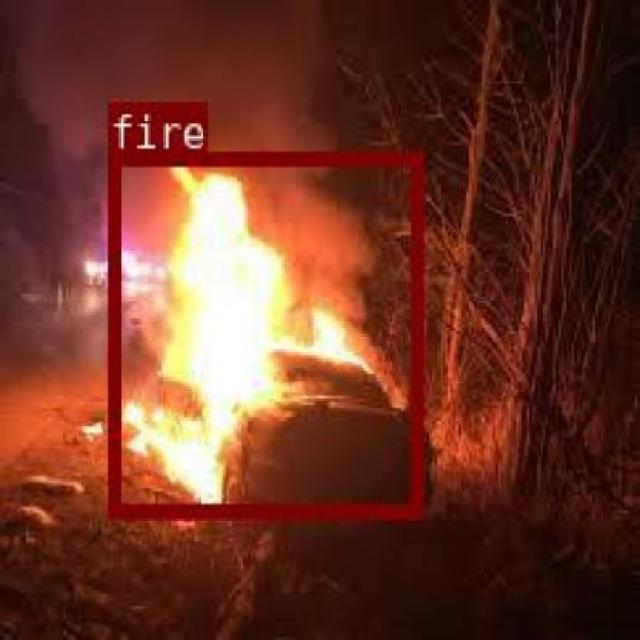fire: (106, 148, 420, 516)
